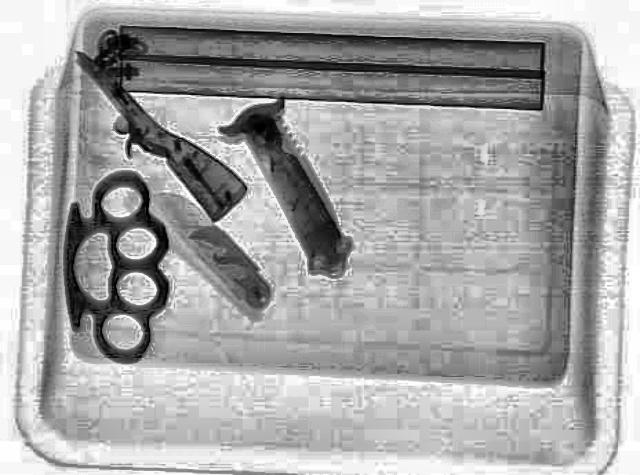Knife: (228, 96, 362, 278), (56, 168, 172, 362), (144, 185, 282, 311)
